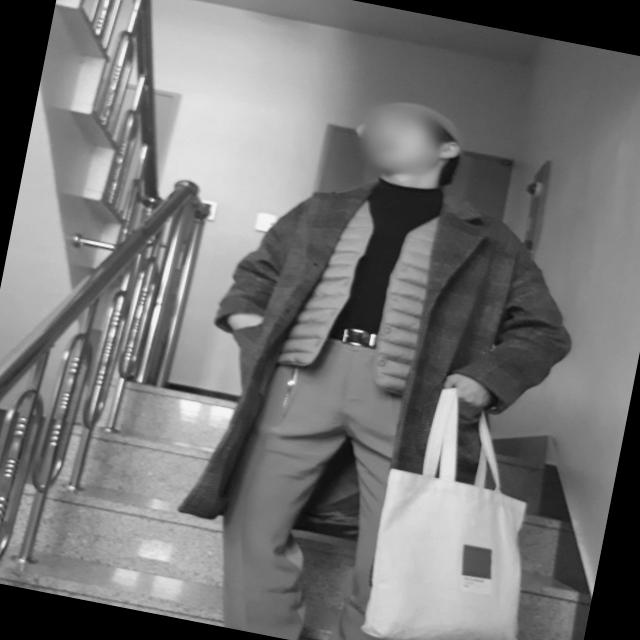coat: (175, 145, 600, 580)
padding: (274, 184, 446, 400)
slacks: (205, 329, 468, 640)
